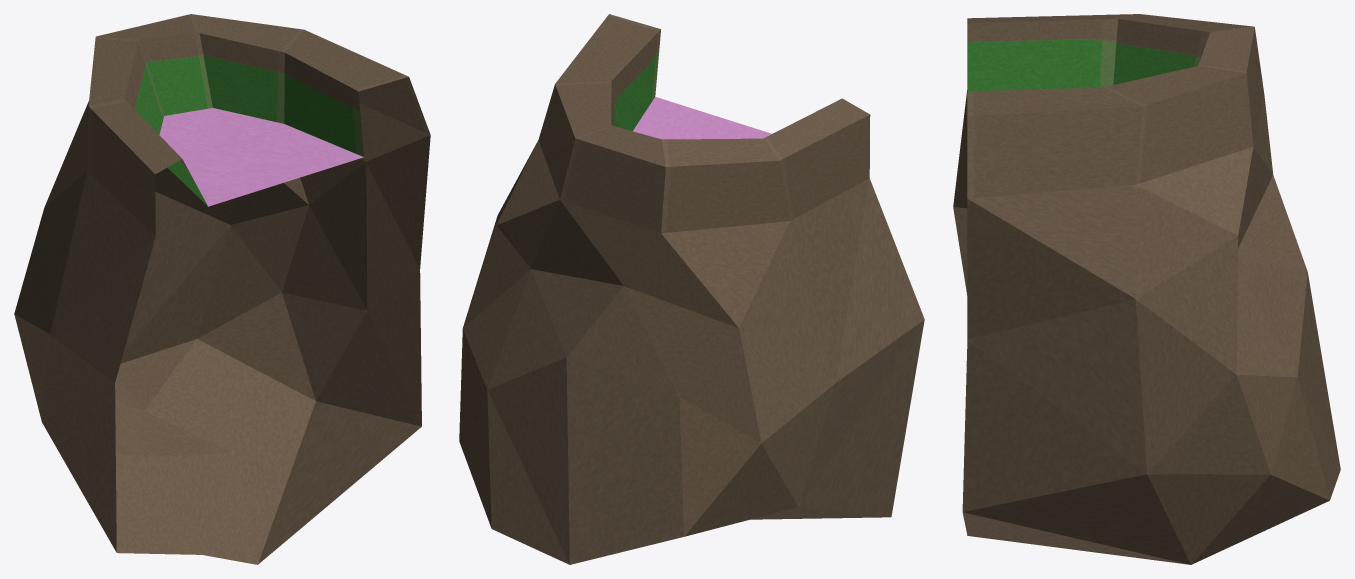
The model's file is cave_2.fbx.
3 renders of one model, left to right at view 1: azimuth 30°, elevation 25°; view 2: azimuth 150°, elevation 25°; view 3: azimuth 270°, elevation 25°, orthographic. The views are drawn at different scales.
Parts seen in each view (by area): view 1: Icosphere.030; view 2: Icosphere.030; view 3: Icosphere.030.
Part boxes in pixels (x1,y1,x2,y2): Icosphere.030: (14, 14, 430, 564); Icosphere.030: (459, 14, 924, 564); Icosphere.030: (953, 14, 1340, 564).
Size of the model in its own units: 1036 by 1315 by 921.
